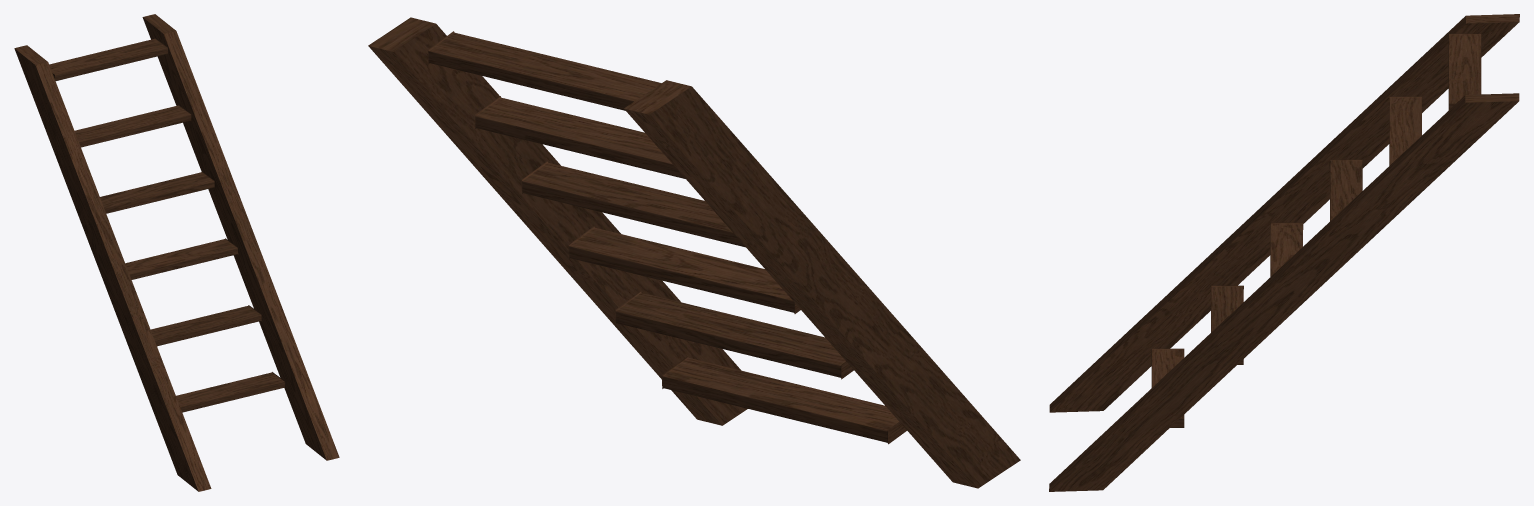
Rendered from Stairs.fbx.
3 views of the same model, side by side, from view 1: azimuth 30°, elevation 25°; view 2: azimuth 150°, elevation 25°; view 3: azimuth 270°, elevation 25° (orthographic). The views are drawn at different scales.
Parts seen in each view (by area): view 1: Ceiling.002; view 2: Ceiling.002; view 3: Ceiling.002.
Part boxes in pixels (<box>): Ceiling.002: <box>14,14,339,491</box>; Ceiling.002: <box>368,17,1020,488</box>; Ceiling.002: <box>1049,14,1519,491</box>.
Size of the model in its own units: 4562 by 9493 by 10351.
Materials: 1 (1 with a texture image).
